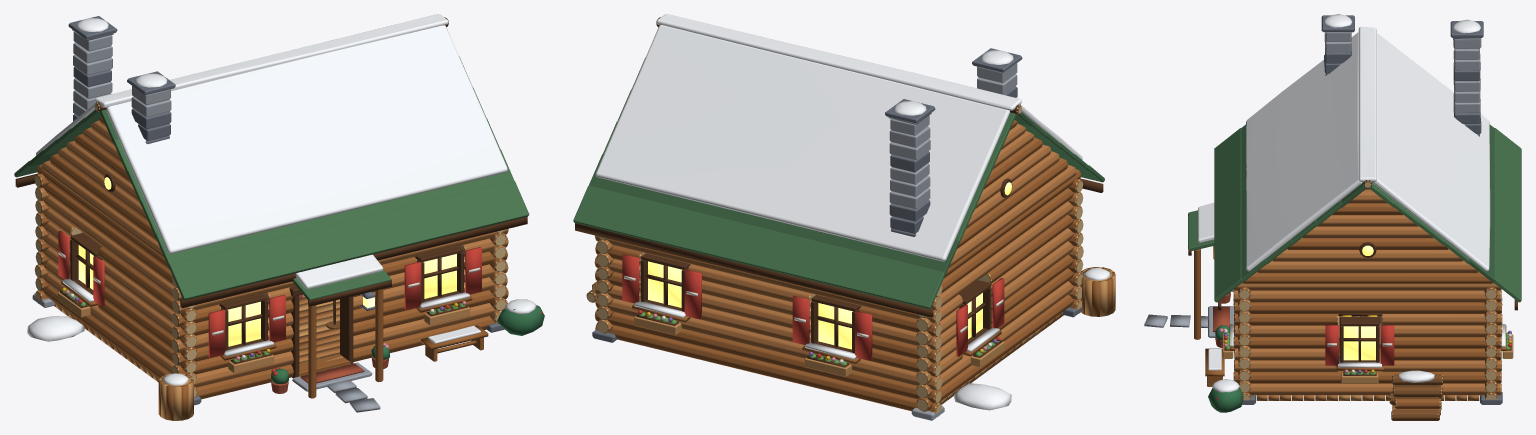
The model's file is house_2.glb.
3 views of the same model, side by side, from view 1: azimuth 30°, elevation 25°; view 2: azimuth 150°, elevation 25°; view 3: azimuth 270°, elevation 25° (orthographic). The views are drawn at different scales.
Visible parts, largest first — view 1: roof, walls, exterior, floor; view 2: roof, walls, exterior, floor; view 3: roof, walls, exterior, floor.
Part boxes in pixels (box(x1,y1,x2,y2)): roof: box(14, 14, 529, 308); walls: box(32, 164, 508, 405); exterior: box(27, 289, 544, 420); floor: box(54, 294, 372, 391); roof: box(573, 14, 1104, 317); walls: box(592, 169, 1083, 420); exterior: box(586, 267, 1115, 410); floor: box(939, 312, 1063, 404); roof: box(1188, 14, 1521, 310); walls: box(1222, 188, 1513, 404); exterior: box(1144, 246, 1443, 420); floor: box(1208, 306, 1480, 400).
Bounding box in the file's own units: 7.91 × 5.34 × 7.03.
